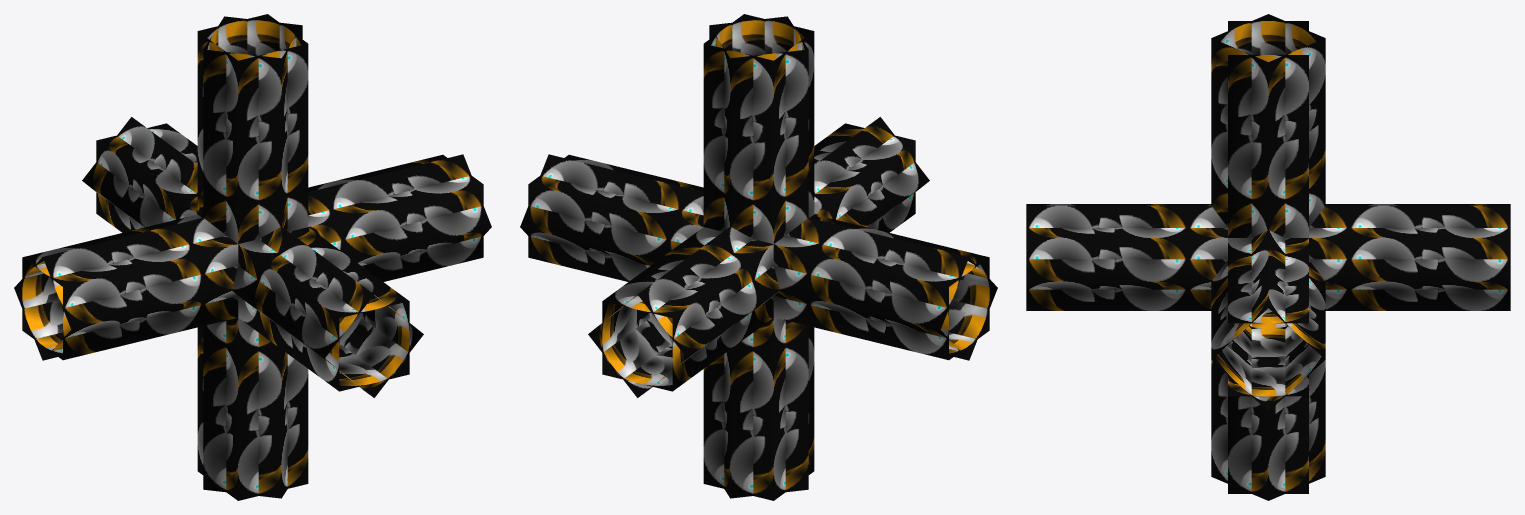
File: StarTetrahemihexacron26.gltf
3 renders of one model, left to right at view 1: azimuth 30°, elevation 25°; view 2: azimuth 150°, elevation 25°; view 3: azimuth 270°, elevation 25°, orthographic.
Parts seen in each view (by area): view 1: StarTetrahemihexacron; view 2: StarTetrahemihexacron; view 3: StarTetrahemihexacron.
Part boxes in pixels (box(x1,y1,x2,y2)): StarTetrahemihexacron: box(14, 14, 491, 500); StarTetrahemihexacron: box(520, 14, 997, 500); StarTetrahemihexacron: box(1026, 14, 1510, 500).
Bounding box in the file's own units: 6 × 6 × 6.
Materials: 1 (1 with a texture image).
